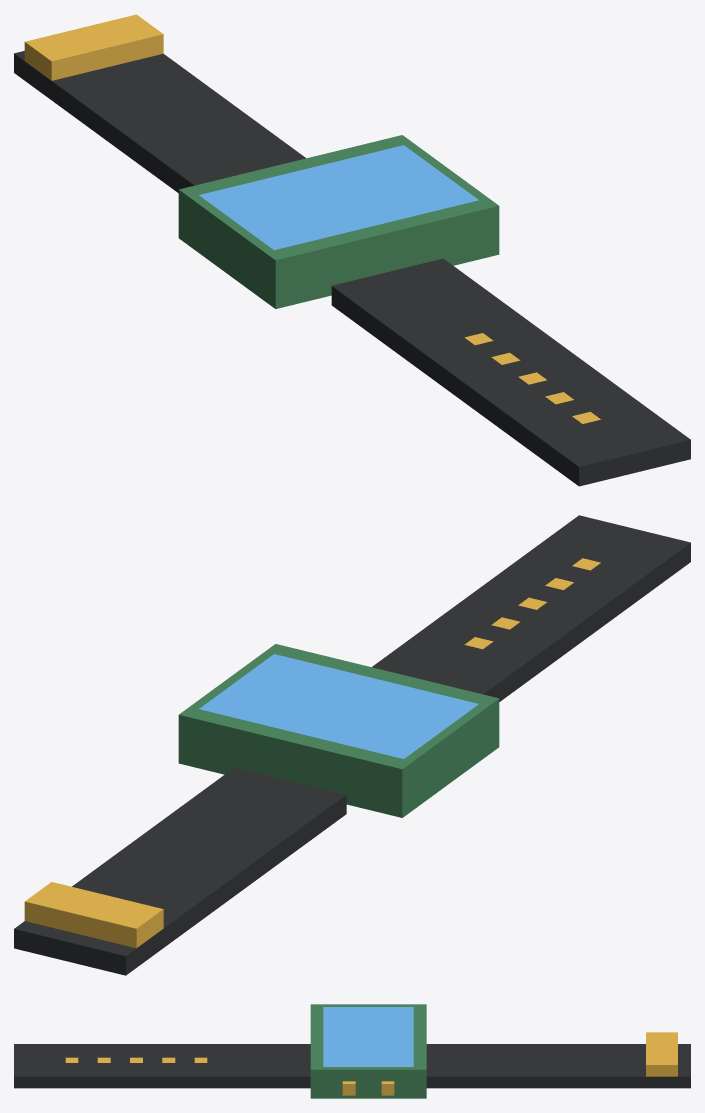
Rendered from crystal_wrist_computer.glb.
3 views of the same model, one above another, from view 1: azimuth 30°, elevation 25°; view 2: azimuth 150°, elevation 25°; view 3: azimuth 270°, elevation 25° (orthographic). The views are drawn at different scales.
Visible parts, largest first — view 1: crystal_wrist_computer:compound; view 2: crystal_wrist_computer:compound; view 3: crystal_wrist_computer:compound.
Boxes of the visible parts, x1=… form: crystal_wrist_computer:compound: x1=14, y1=14, x2=690, y2=486; crystal_wrist_computer:compound: x1=14, y1=515, x2=690, y2=975; crystal_wrist_computer:compound: x1=14, y1=1004, x2=690, y2=1098.
Size of the model in its own units: 0.05 by 0.012 by 0.21.
